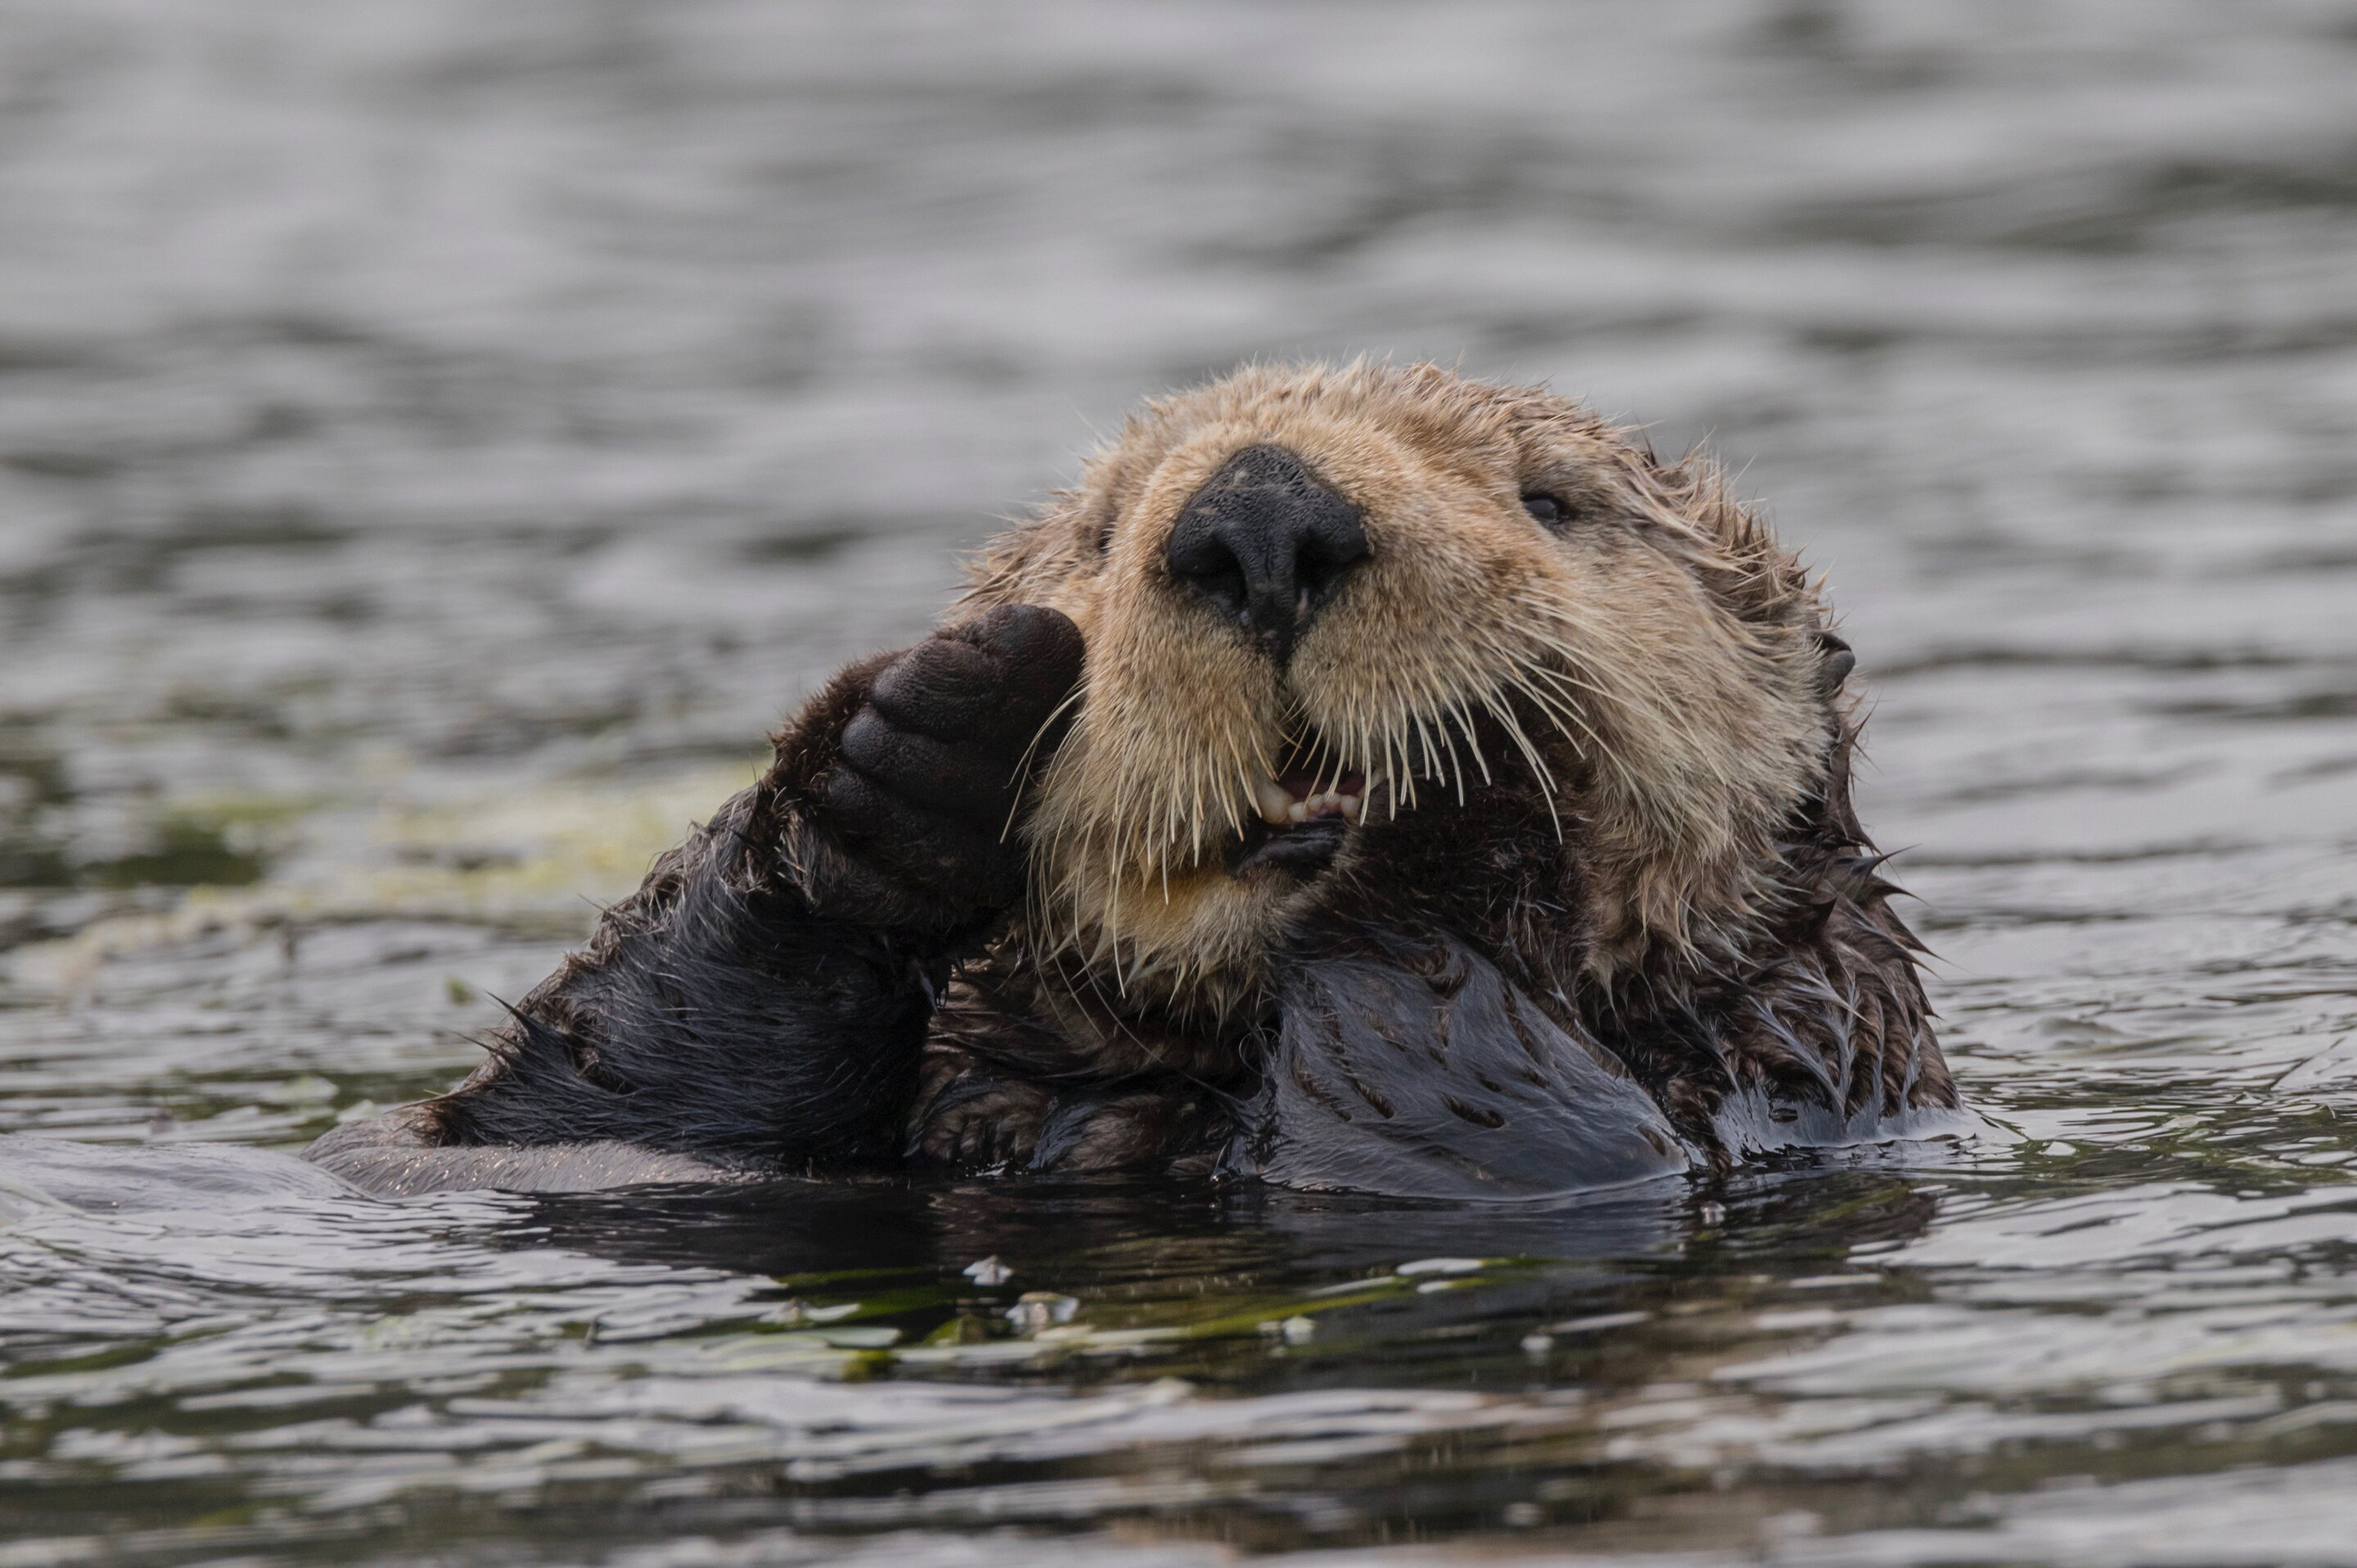otter: (469, 296, 2058, 1454)
